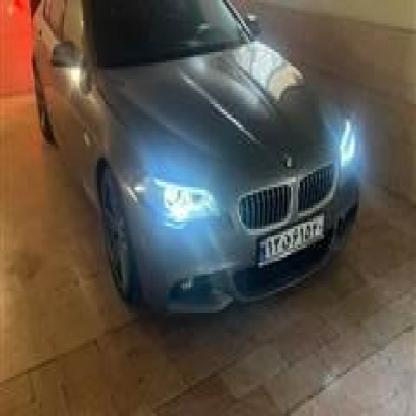Car: (22, 0, 371, 325)
